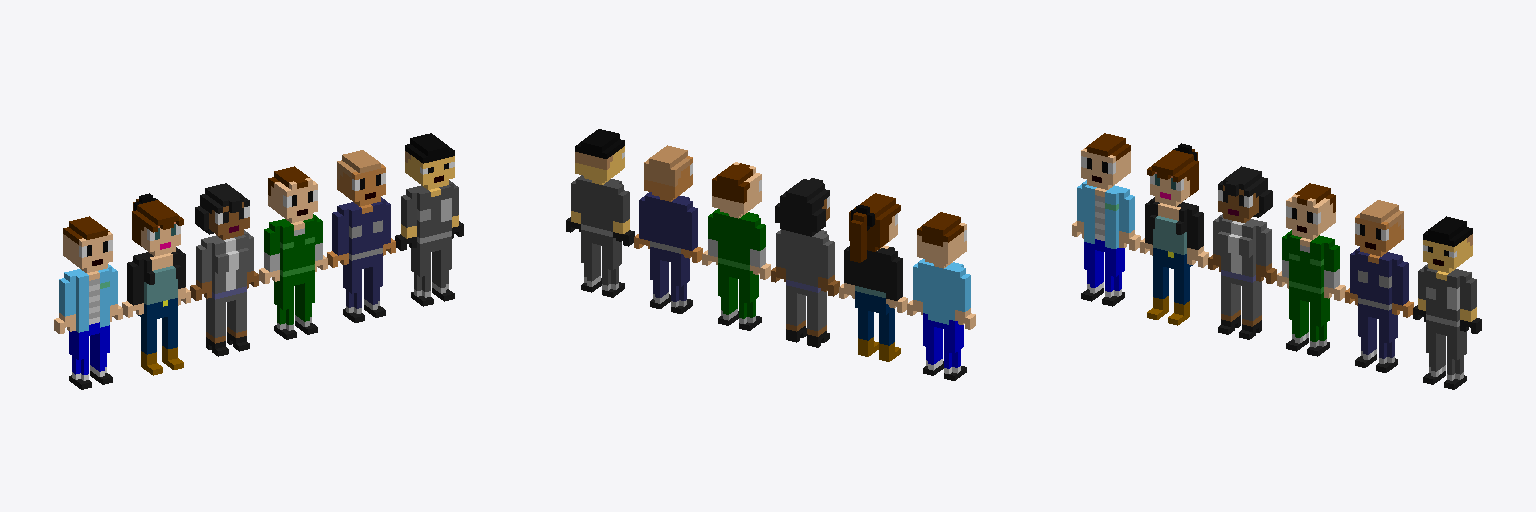
The picture shows the model from 3 angles: view 1: azimuth 30°, elevation 25°; view 2: azimuth 150°, elevation 25°; view 3: azimuth 330°, elevation 25°; orthographic projection.
Visible parts, largest first — view 1: object 1; view 2: object 1; view 3: object 1.
Part boxes in pixels (left/top/right/bottom): object 1: left=54, top=133, right=463, bottom=389; object 1: left=566, top=129, right=975, bottom=380; object 1: left=1072, top=133, right=1481, bottom=389.
Bounding box in the file's own units: 7.7 × 2.9 × 1.
Materials: 1 (1 with a texture image).